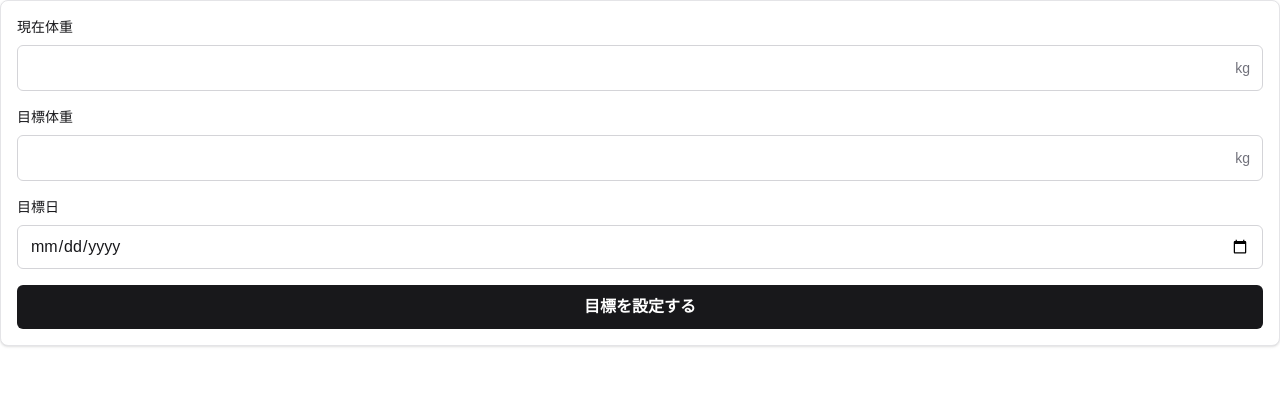
Test: GoalSettingForm › shows a form error when submit fails
The image size is (1280, 416).
Type "80.1" into the number field labelled "現在体重".
click(627, 68); type("80.1")  # box 18,46 -> 1235,90
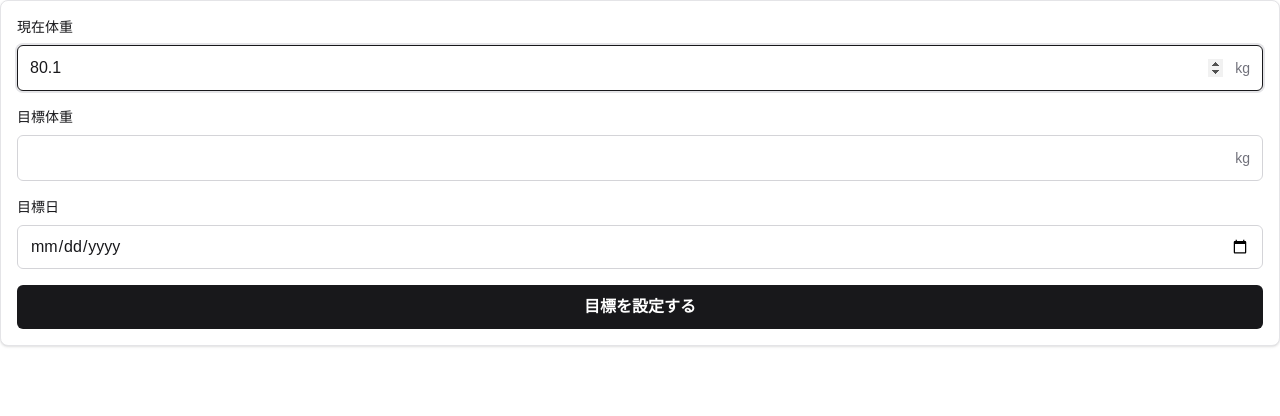
Type "75.0" into the number field labelled "目標体重".
click(627, 158); type("75.0")  # box 18,136 -> 1235,180
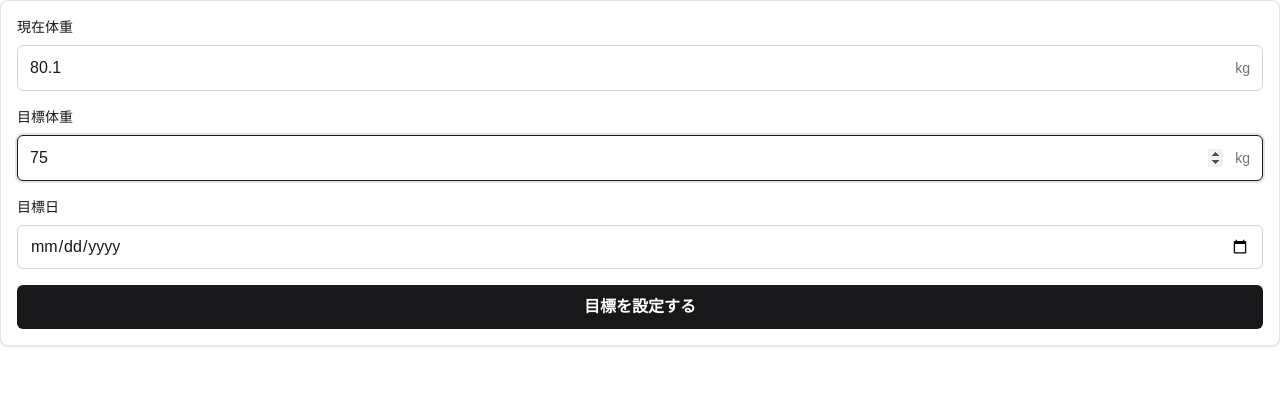
Type "2026-06-30" into the date field labelled "目標日".
click(640, 247); type("2026-06-30")  # box 17,225 -> 1263,269
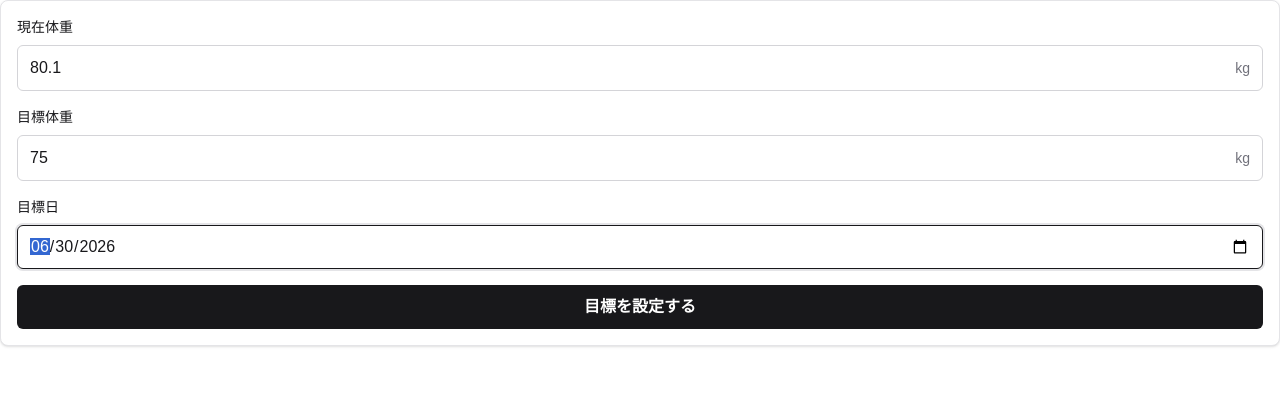
Click the button "目標を設定する".
click(640, 307)  # box 17,285 -> 1263,329
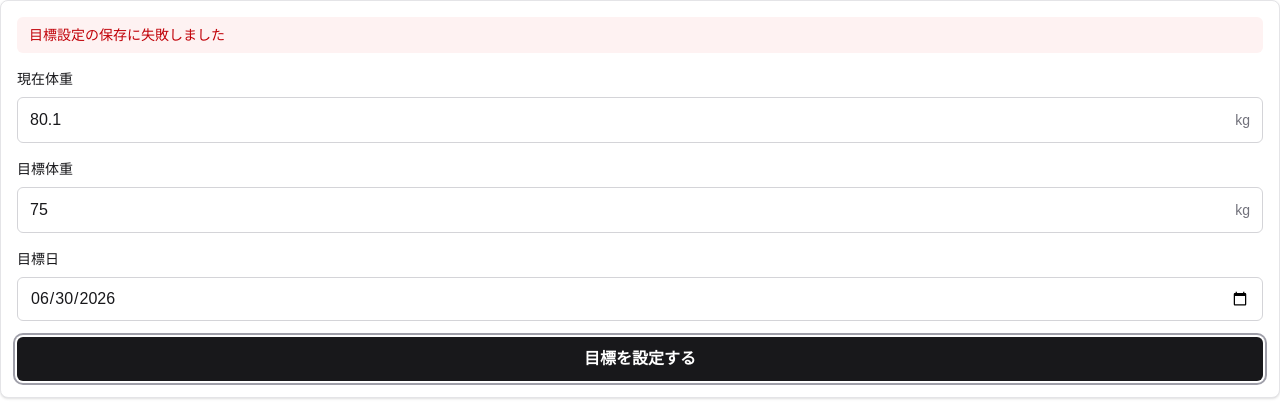
expect the text "目標設定の保存に失敗しました" is shown: met, box 17,17 -> 1263,53
